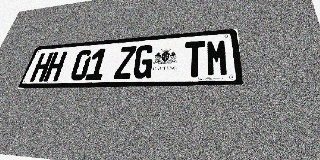0: (69, 49, 93, 81)
1: (85, 48, 109, 80)
G: (132, 44, 155, 79)
H: (43, 51, 68, 82), (29, 52, 54, 82)
M: (206, 39, 229, 77)
T: (184, 40, 205, 77)
Z: (113, 46, 137, 79)
